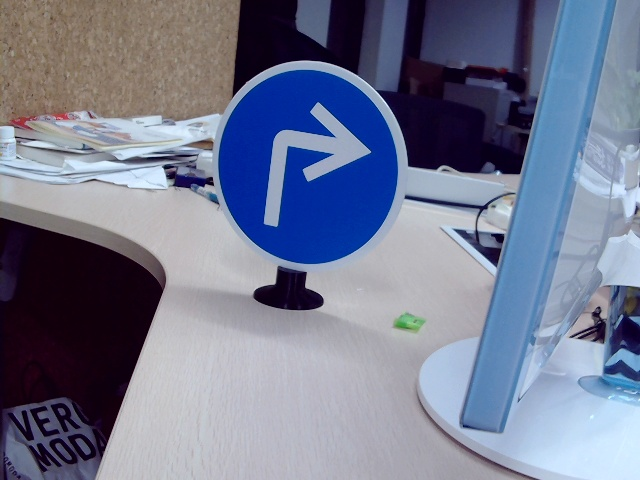turn_right: (261, 91, 369, 230)
